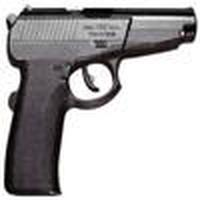gun: (3, 5, 193, 200)
